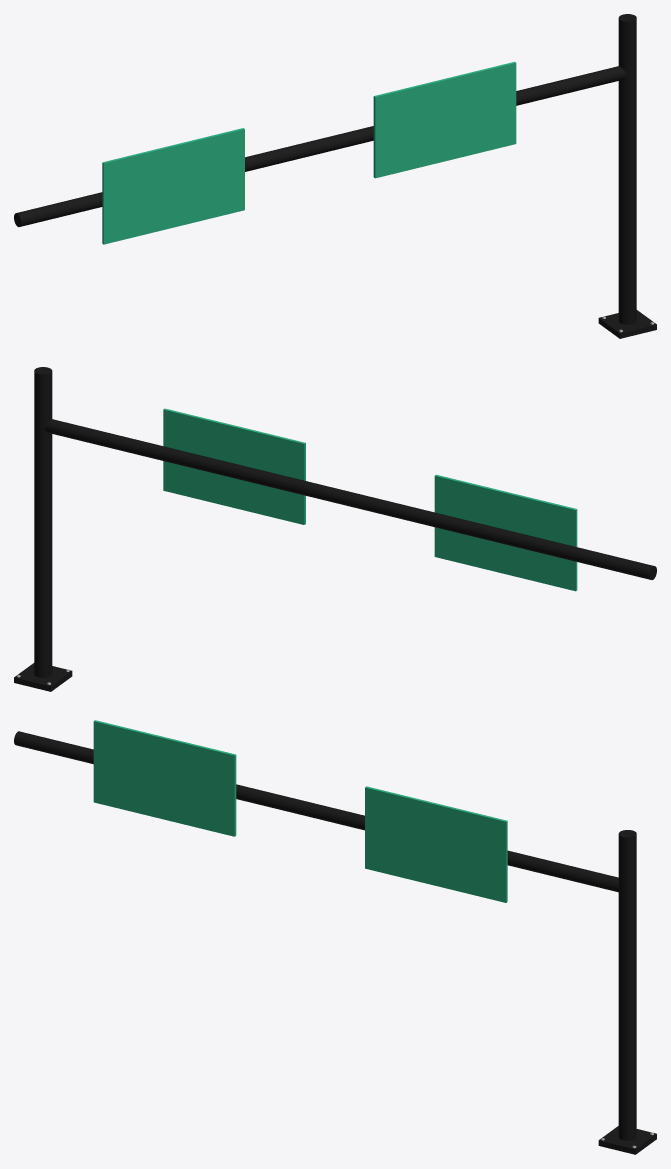
File: highwaySigns 1.fbx
3 renders of one model, top to bottom at view 1: azimuth 30°, elevation 25°; view 2: azimuth 150°, elevation 25°; view 3: azimuth 330°, elevation 25°, orthographic.
Parts seen in each view (by area): view 1: highway signs.002, highway signs.001, vpillar.002, hpillar.001, vpillar.003; view 2: highway signs.001, highway signs.002, hpillar.001, vpillar.002, vpillar.003; view 3: highway signs.001, highway signs.002, vpillar.002, hpillar.001, vpillar.003.
Boxes of the visible parts, x1,y1,x2,y2 form: highway signs.002: (373, 61, 516, 178); highway signs.001: (102, 128, 244, 244); vpillar.002: (618, 14, 636, 324); hpillar.001: (14, 66, 626, 226); vpillar.003: (598, 310, 656, 338); highway signs.001: (434, 474, 577, 591); highway signs.002: (163, 408, 305, 524); hpillar.001: (44, 419, 656, 579); vpillar.002: (34, 367, 52, 677); vpillar.003: (14, 663, 72, 691); highway signs.001: (93, 720, 236, 836); highway signs.002: (365, 786, 507, 902); vpillar.002: (618, 830, 636, 1140); hpillar.001: (14, 731, 619, 892); vpillar.003: (598, 1126, 656, 1154).
Size of the model in its own units: 5152 by 2418 by 304.
